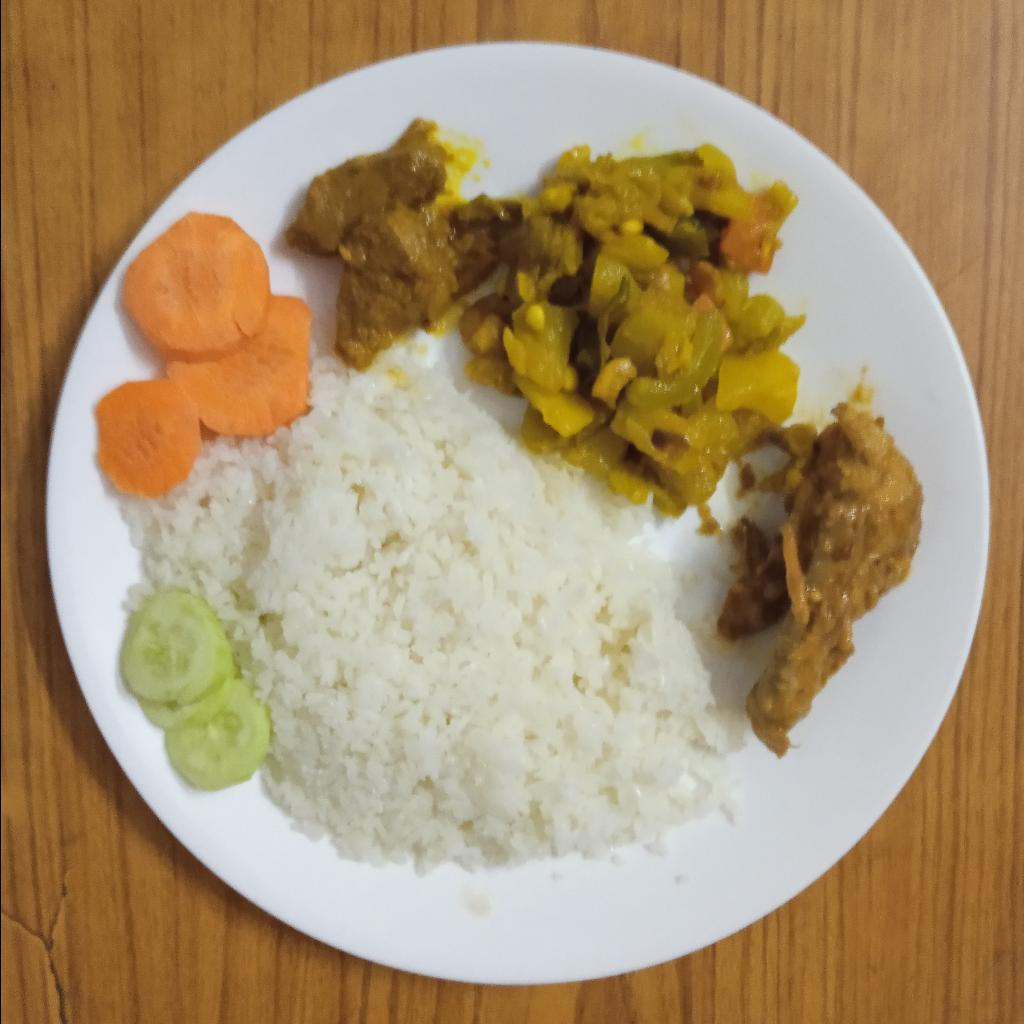beef: (280, 119, 516, 368)
carrot: (95, 210, 311, 500)
chicken: (719, 410, 927, 759)
rice: (123, 351, 744, 870)
vegetable: (456, 145, 808, 517)
